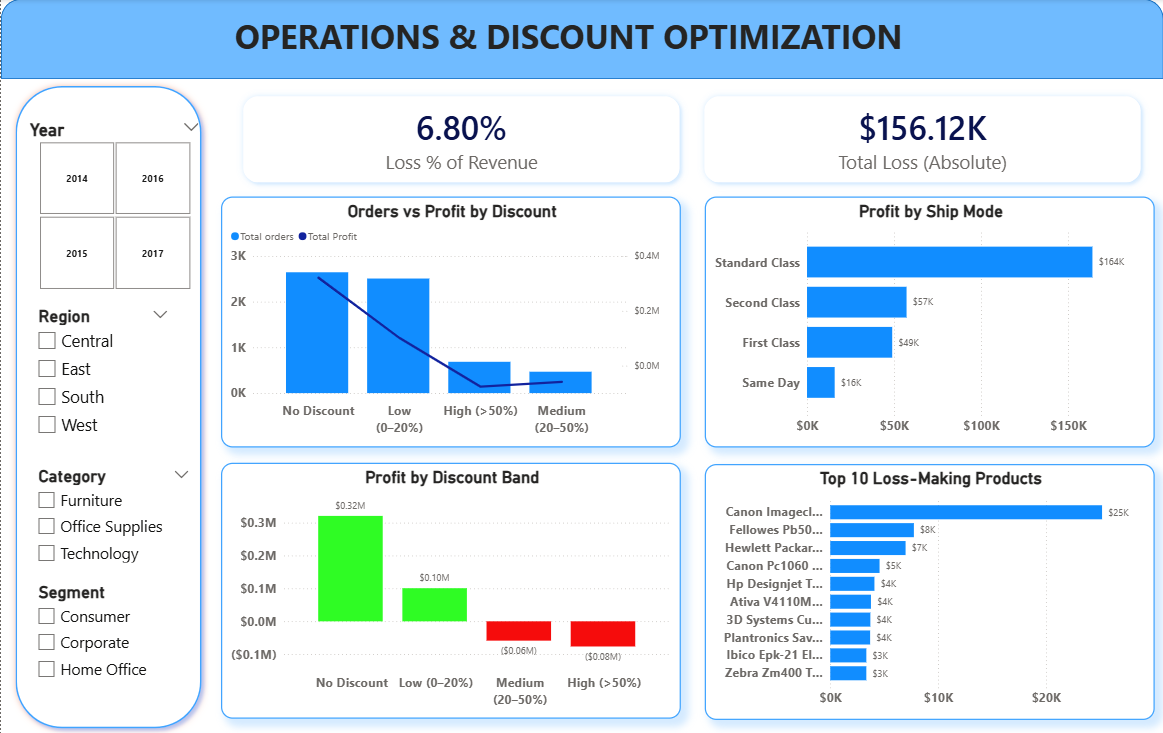

Layout of this report page (visuals, bound fields, positions):
{"tool":"powerbi","page":{"name":"Discount Optimization","canvas":[1500,950],"ordinal":2},"visuals":[{"type":"shape","box":[0,0,1500.5,103.3],"z":0},{"type":"textbox","box":[284.5,13,897.3,71.5],"z":1000},{"type":"shape","box":[9.7,103.3,258.2,847.1],"z":2000},{"type":"slicer","title":"Year","fields":{"Values":["SampleSuperstore_clean1 csv.Year"]},"box":[24.2,150.1,243.6,230.7],"z":3000},{"type":"slicer","fields":{"Values":["SampleSuperstore_clean1 csv.Region"]},"box":[35.5,392.1,192,206.5],"z":4000},{"type":"slicer","fields":{"Values":["SampleSuperstore_clean1 csv.Category"]},"box":[35.5,598.6,219.4,150.1],"z":5000},{"type":"slicer","fields":{"Values":["SampleSuperstore_clean1 csv.Segment"]},"box":[35.5,748.6,300.1,167.8],"z":6000},{"type":"clusteredBarChart","title":"Profit by Ship Mode","fields":{"Category":["SampleSuperstore_clean1 csv.Ship Mode"],"Y":["_measures.Total Profit"]},"box":[908.4,254.9,580.8,324.3],"z":7000},{"type":"lineClusteredColumnComboChart","title":"Orders vs Profit by Discount","fields":{"Category":["SampleSuperstore_clean1 csv.Discount Bucket"],"Y":["_measures.Total orders"],"Y2":["_measures.Total Profit"]},"box":[284,254.9,593.8,324.3],"z":8000},{"type":"cardVisual","fields":{"Data":["_measures.Loss % of Revenue","_measures.Total Loss (Absolute)"]},"box":[284,96.8,1216.5,169.4],"z":9000},{"type":"clusteredColumnChart","title":"Profit by Discount Band","fields":{"Category":["SampleSuperstore_clean1 csv.Discount Bucket"],"Y":["_measures.Total Profit"]},"box":[284,598.6,593.8,330.8],"z":10000},{"type":"clusteredBarChart","title":"Top 10 Loss-Making Products","fields":{"Category":["SampleSuperstore_clean1 csv.Product Name"],"Y":["_measures.Total Profit"]},"box":[908.4,600.2,580.8,330.8],"z":11000}]}

Visuals, with their boxes in screenshot pixels (x1, y1, x2, y2), scaled from the page's 1500x950 canvas onto the 1163x733 screenshot:
shape: box(0, 0, 1162, 80)
textbox: box(221, 10, 916, 65)
shape: box(8, 80, 208, 732)
"Year" slicer: box(19, 116, 208, 294)
slicer - SampleSuperstore_clean1 csv.Region: box(28, 303, 176, 462)
slicer - SampleSuperstore_clean1 csv.Category: box(28, 462, 198, 578)
slicer - SampleSuperstore_clean1 csv.Segment: box(28, 578, 260, 707)
"Profit by Ship Mode" clusteredBarChart: box(704, 197, 1155, 447)
"Orders vs Profit by Discount" lineClusteredColumnComboChart: box(220, 197, 681, 447)
cardVisual - _measures.Loss % of Revenue x _measures.Total Loss (Absolute): box(220, 75, 1162, 205)
"Profit by Discount Band" clusteredColumnChart: box(220, 462, 681, 717)
"Top 10 Loss-Making Products" clusteredBarChart: box(704, 463, 1155, 718)
